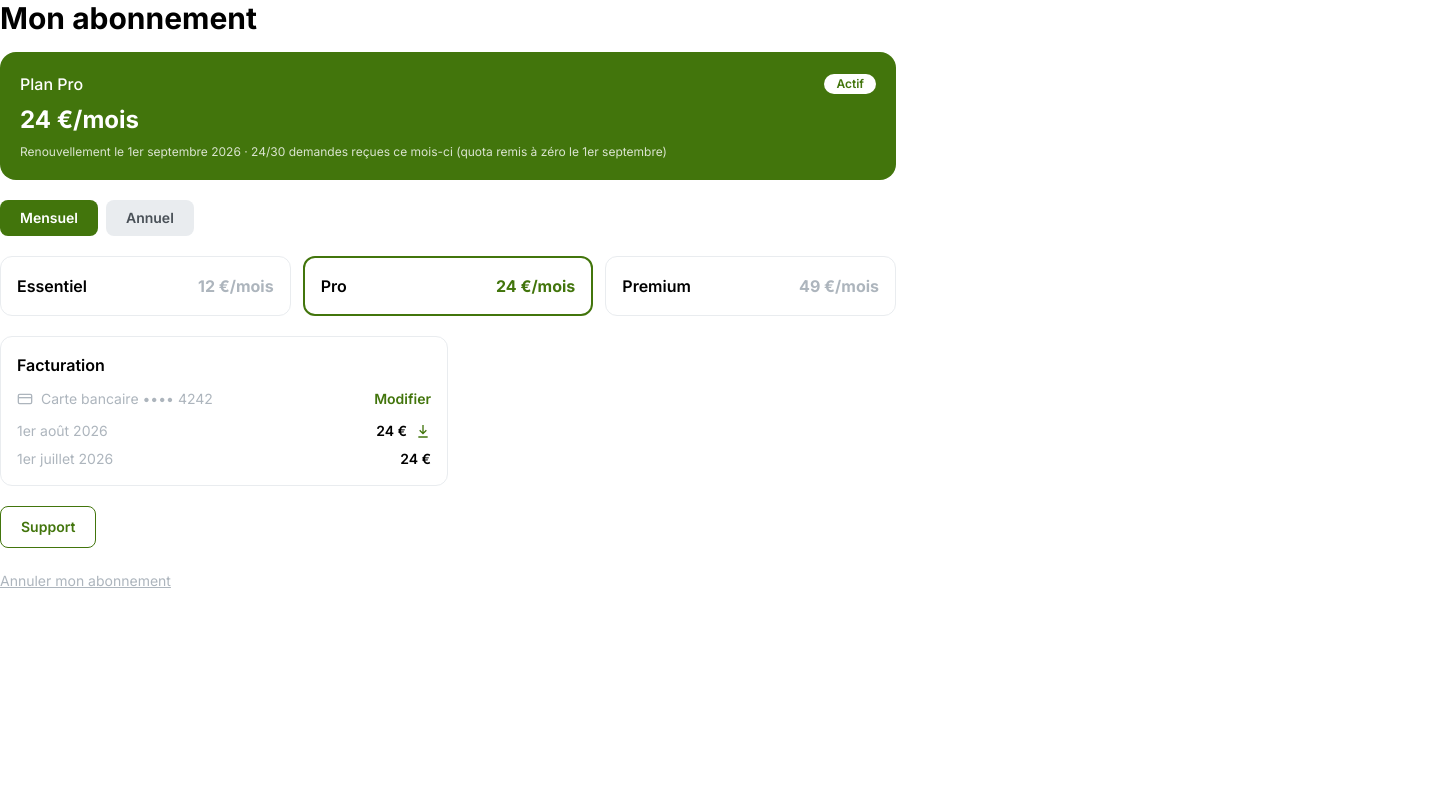
Test case: SubscriptionComponent › on peut renoncer au changement
Click the button "Premium 49 €/mois" at (657, 286), box [605,256,896,316]
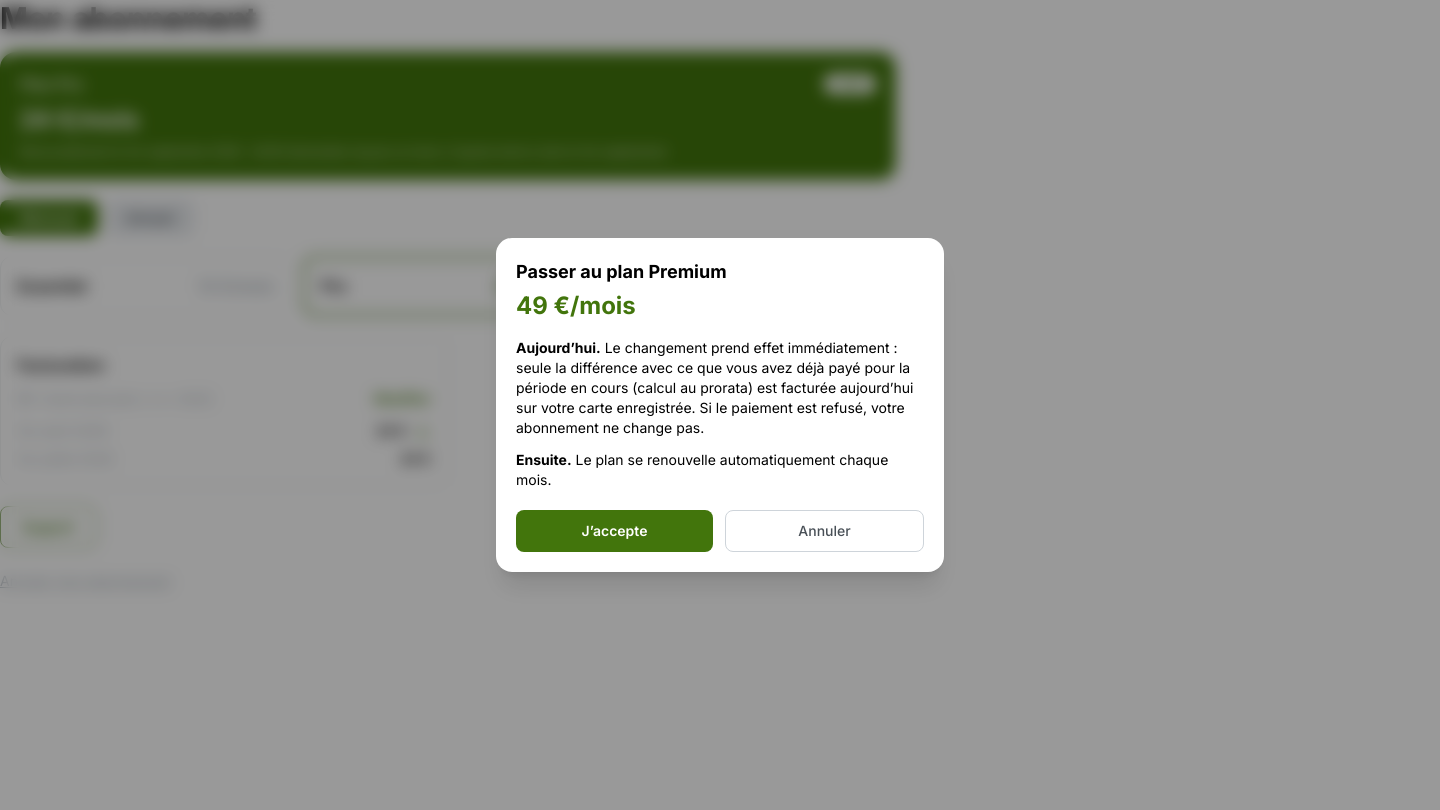
Click the button "Annuler" at (824, 531), box [725,510,924,552]
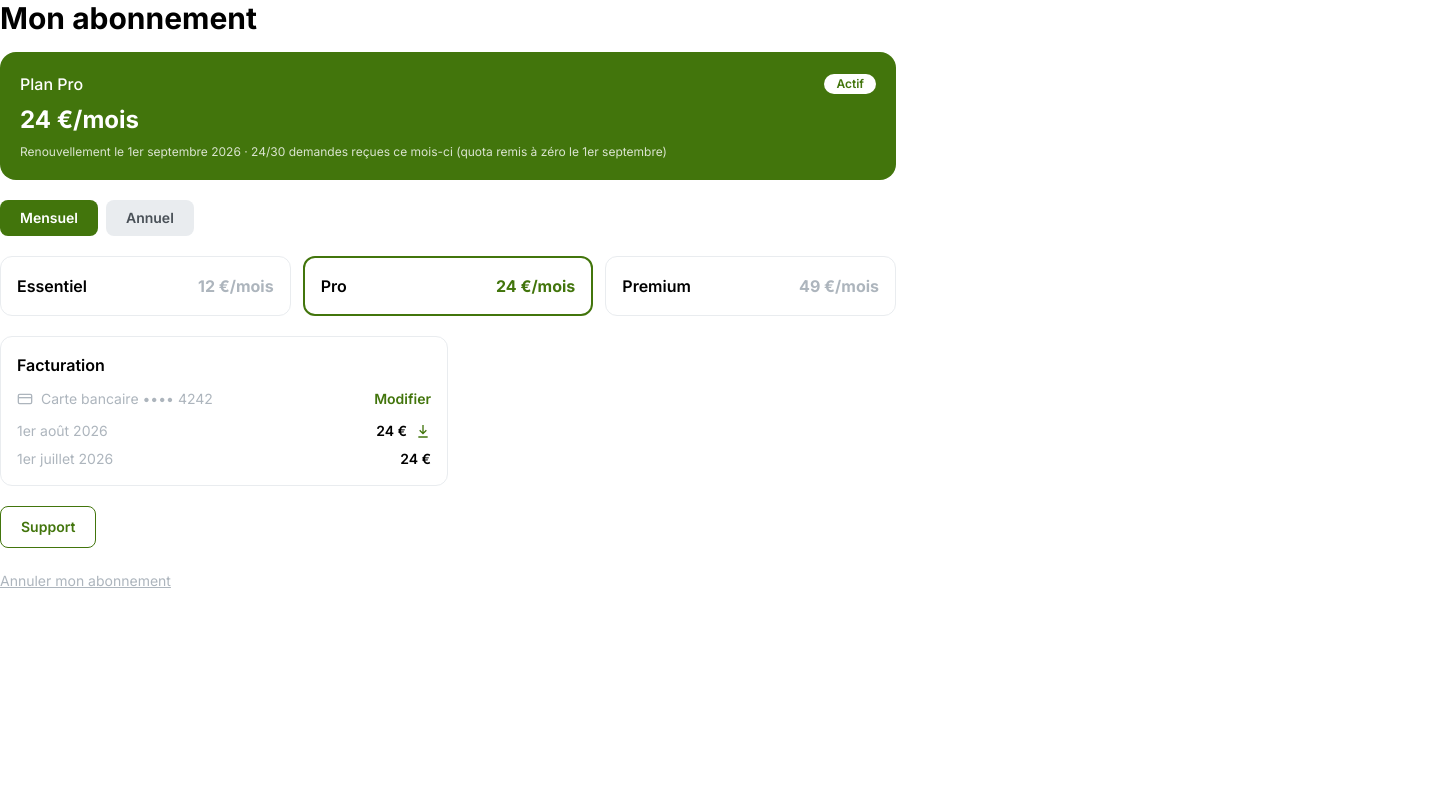
Expected: the dialog is gone
